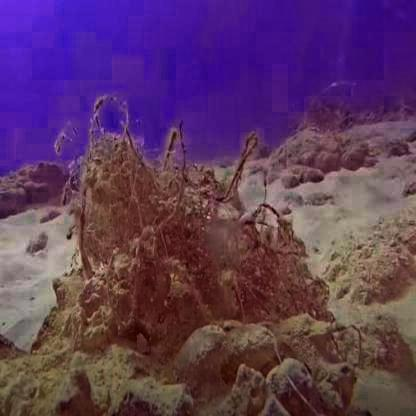net: (75, 128, 304, 348)
